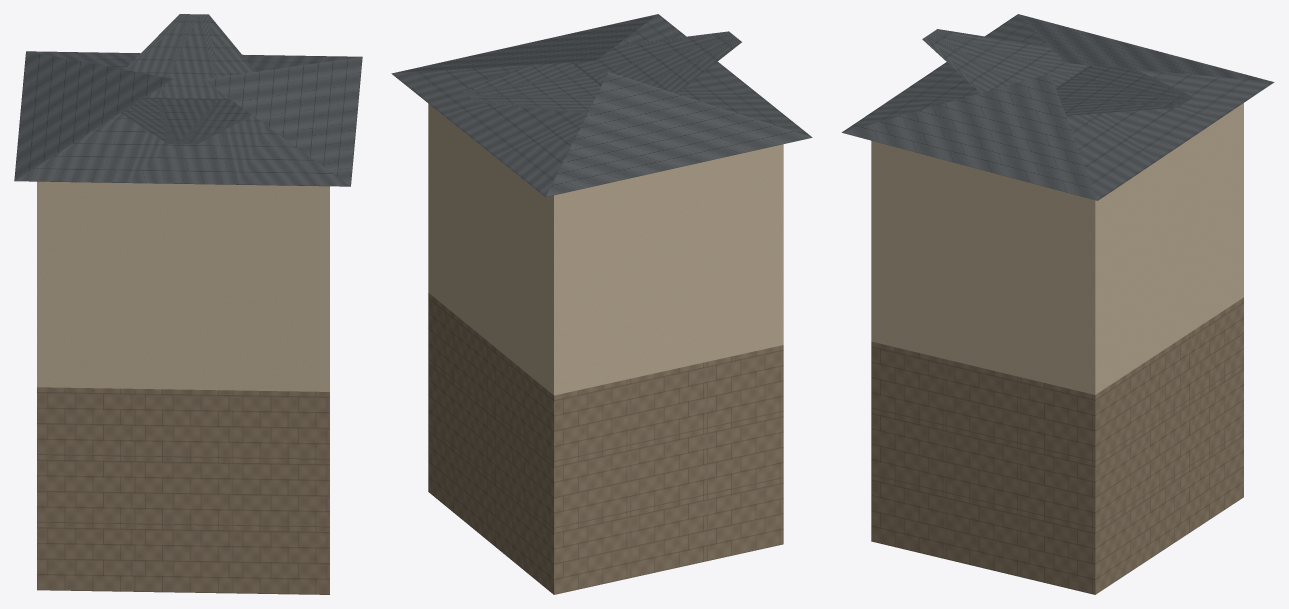
Rendered from bld_c15_14_494.gltf.
3 views of the same model, side by side, from view 1: azimuth 30°, elevation 25°; view 2: azimuth 150°, elevation 25°; view 3: azimuth 270°, elevation 25° (orthographic).
Visible parts, largest first — view 1: bld_c15_14_494; view 2: bld_c15_14_494; view 3: bld_c15_14_494.
Boxes of the visible parts, bbox=[...] form: bld_c15_14_494: bbox=[14, 14, 362, 594]; bld_c15_14_494: bbox=[391, 14, 812, 594]; bld_c15_14_494: bbox=[842, 14, 1274, 594].
Size of the model in its own units: 10.22 by 11.5 by 10.01.
3 materials, 3 textured.
